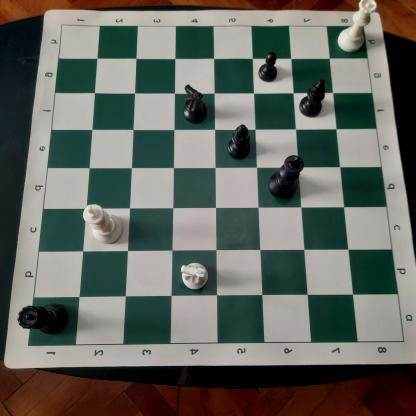black-bishop: (296, 76, 328, 118), (225, 123, 253, 162)
black-king: (264, 154, 308, 200)
black-knight: (180, 82, 209, 124)
black-pawn: (255, 50, 280, 82)
black-queen: (16, 297, 71, 339)
white-king: (80, 201, 128, 248)
white-knight: (176, 255, 213, 298)
white-queen: (334, 0, 376, 54)
